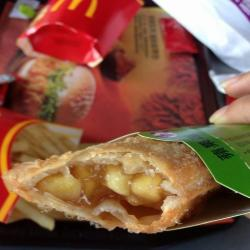apple_pie: (19, 122, 239, 231)
fries: (10, 117, 70, 171)
